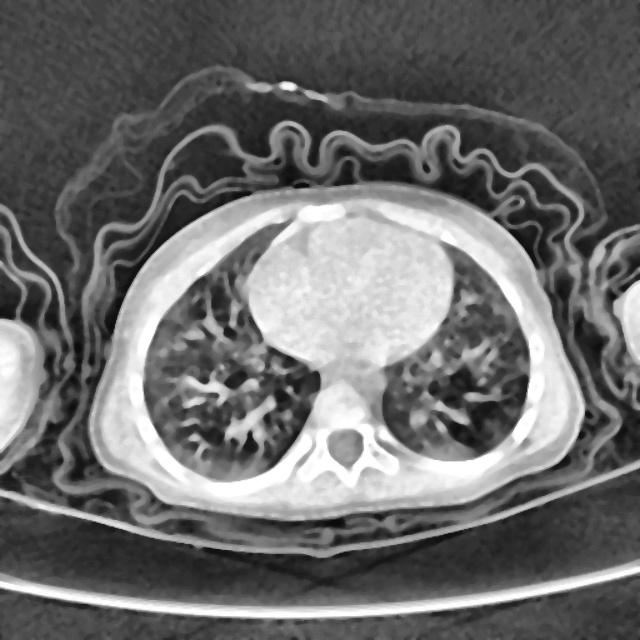covid: (87, 179, 586, 521)
